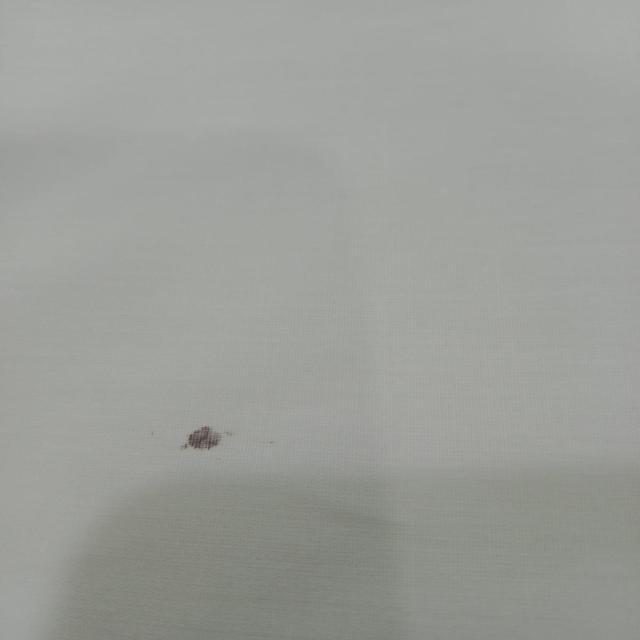stain: (157, 408, 246, 465)
